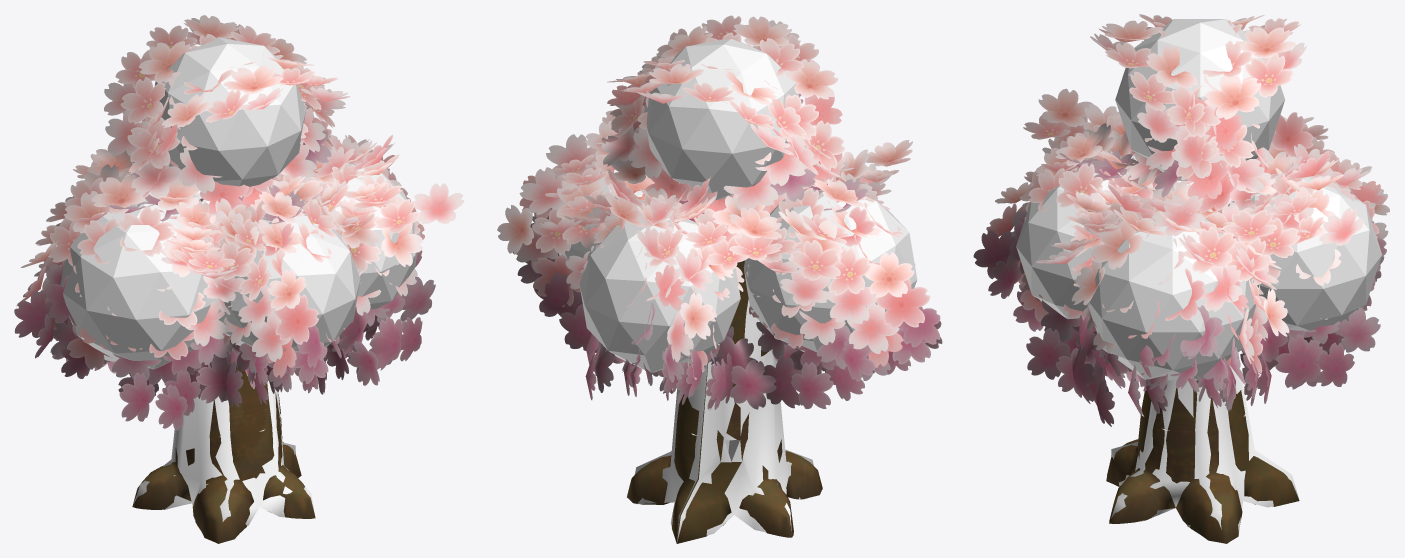
Rendered from tree-blossom.glb.
3 views of the same model, side by side, from view 1: azimuth 30°, elevation 25°; view 2: azimuth 150°, elevation 25°; view 3: azimuth 270°, elevation 25° (orthographic). The views are drawn at different scales.
Visible parts, largest first — view 1: Crown0__mTreeOakSakuraBloom, Hull__mShadowShake, TrunkBottom__mTreeOakTrunkSakura, Stem__mShadow; view 2: Crown0__mTreeOakSakuraBloom, Hull__mShadowShake, TrunkBottom__mTreeOakTrunkSakura, Stem__mShadow; view 3: Crown0__mTreeOakSakuraBloom, Hull__mShadowShake, TrunkBottom__mTreeOakTrunkSakura, Stem__mShadow.
Boxes of the visible parts, box(x1,y1,x2,y2) form: Crown0__mTreeOakSakuraBloom: box(14, 15, 464, 430); Hull__mShadowShake: box(60, 37, 420, 369); TrunkBottom__mTreeOakTrunkSakura: box(132, 366, 315, 543); Stem__mShadow: box(133, 380, 314, 526); Crown0__mTreeOakSakuraBloom: box(497, 15, 942, 409); Hull__mShadowShake: box(559, 39, 917, 372); TrunkBottom__mTreeOakTrunkSakura: box(627, 260, 822, 543); Stem__mShadow: box(634, 299, 813, 542); Crown0__mTreeOakSakuraBloom: box(973, 14, 1389, 426); Hull__mShadowShake: box(1016, 19, 1382, 380); TrunkBottom__mTreeOakTrunkSakura: box(1106, 388, 1299, 543); Stem__mShadow: box(1111, 365, 1299, 533).
Size of the model in its own units: 3.13 by 3.4 by 2.69.
5 materials, 3 textured.
